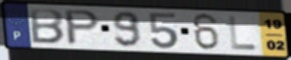5: (148, 12, 180, 50)
6: (191, 13, 222, 52)
9: (112, 10, 144, 49)
B: (29, 8, 66, 46)
L: (227, 15, 259, 52)
P: (64, 9, 103, 47)
